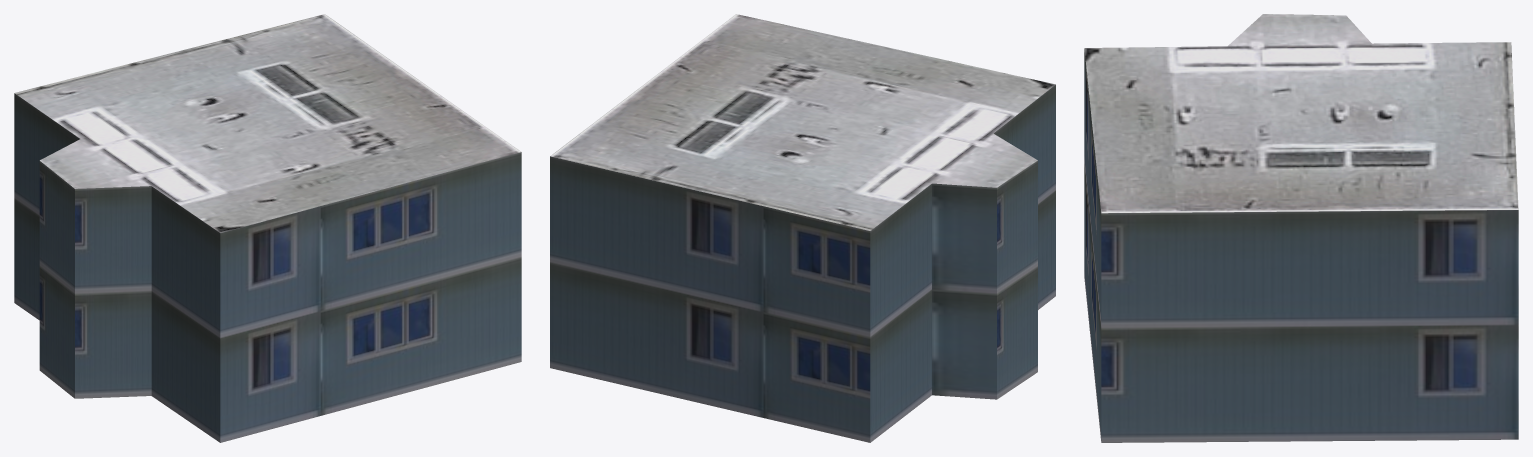
File: RelTex__11.fbx
3 views of the same model, side by side, from view 1: azimuth 30°, elevation 25°; view 2: azimuth 150°, elevation 25°; view 3: azimuth 270°, elevation 25° (orthographic). The views are drawn at different scales.
Visible parts, largest first — view 1: CityEngineMaterial_3_m, CityEngineMaterial_19_m; view 2: CityEngineMaterial_3_m, CityEngineMaterial_19_m; view 3: CityEngineMaterial_3_m, CityEngineMaterial_19_m.
Boxes of the visible parts, bbox=[...] form: CityEngineMaterial_3_m: bbox=[14, 93, 521, 442]; CityEngineMaterial_19_m: bbox=[14, 14, 521, 232]; CityEngineMaterial_3_m: bbox=[550, 84, 1055, 442]; CityEngineMaterial_19_m: bbox=[550, 14, 1055, 230]; CityEngineMaterial_3_m: bbox=[1084, 49, 1518, 442]; CityEngineMaterial_19_m: bbox=[1084, 14, 1518, 213].
Bounding box in the file's own units: 11.16 × 6 × 10.28.
Materials: 2 (2 with a texture image).
